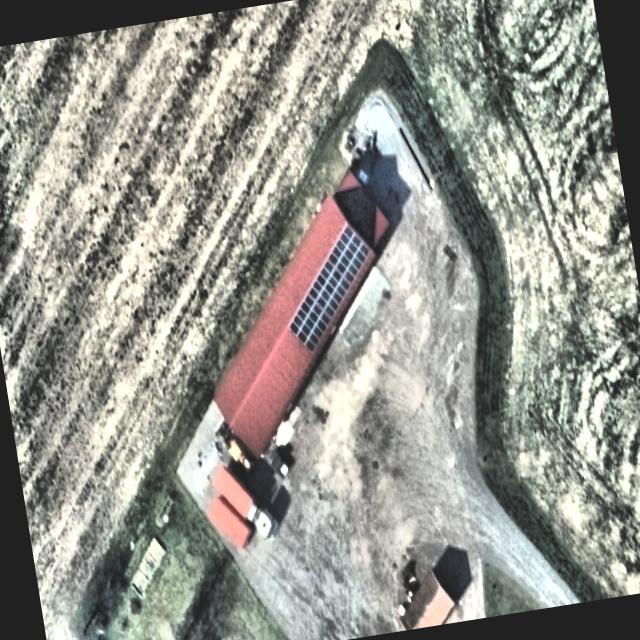roof_pv: (284, 276, 334, 355), (314, 248, 356, 318), (332, 223, 373, 277)
